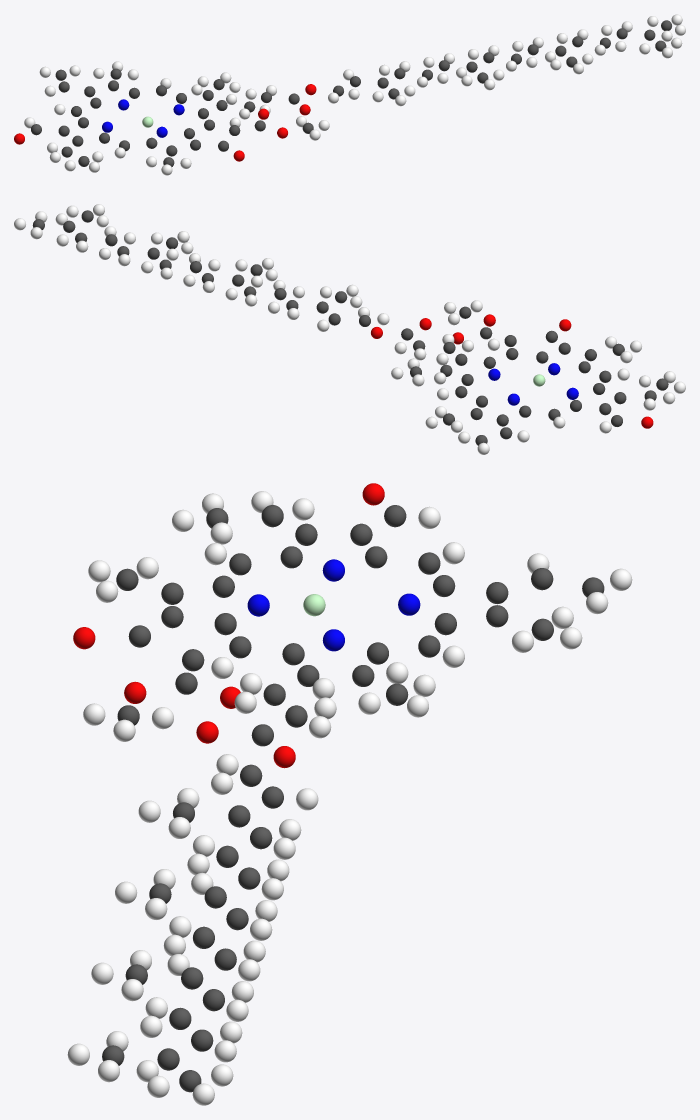
File: Chlorophyll_b_connections.fbx
The picture shows the model from 3 angles, top to bottom: view 1: azimuth 30°, elevation 25°; view 2: azimuth 150°, elevation 25°; view 3: azimuth 270°, elevation 25°; orthographic projection. The views are drawn at different scales.
Bounding box in the file's own units: 2587 × 40 × 1012.
